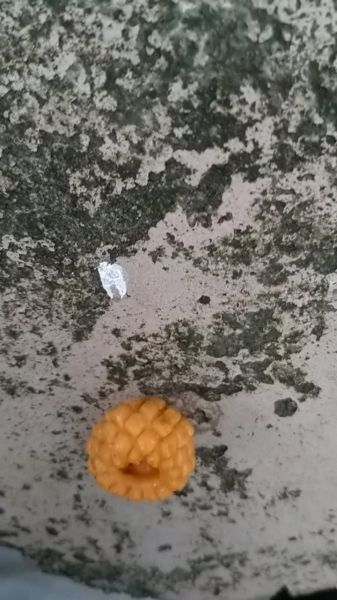eggs: (79, 391, 201, 503)
